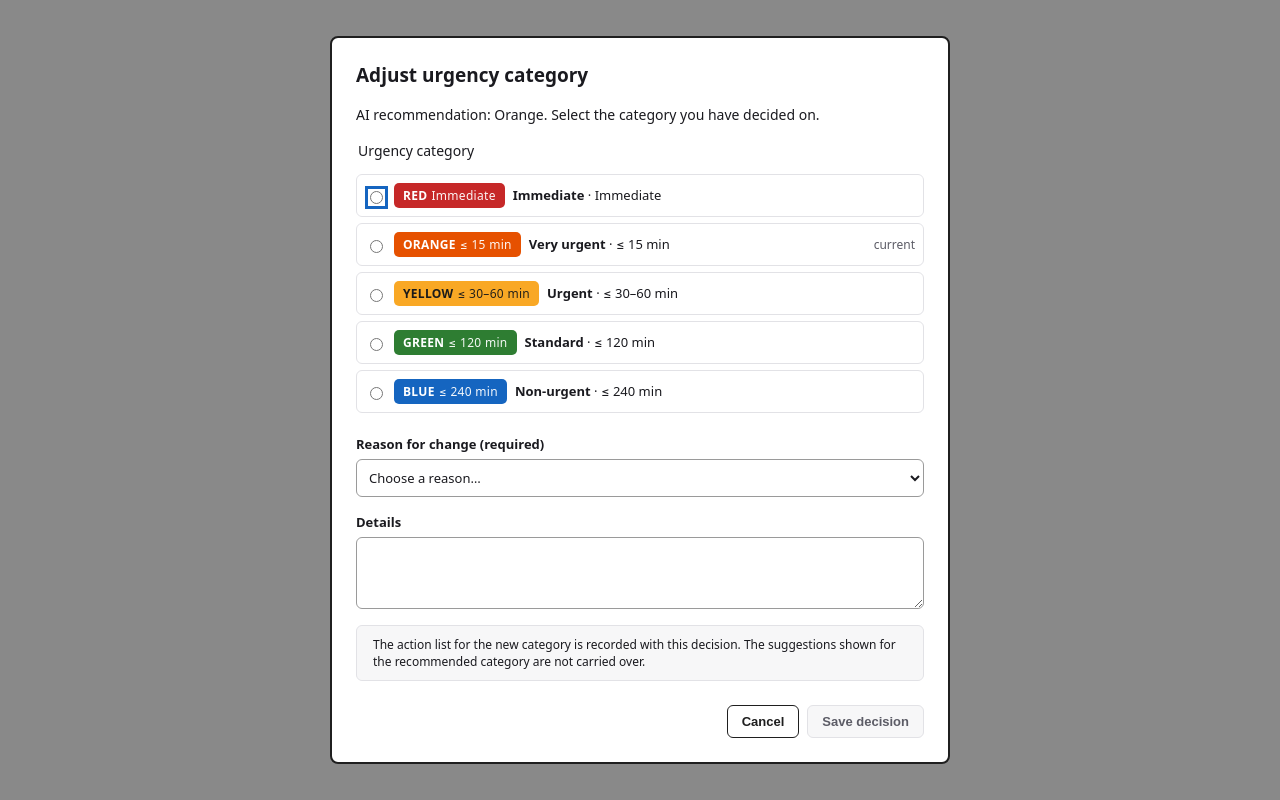
AdjustDialog › names the direction of the change, and which way round it goes
Click the radio button labelled "RED Immediate Immediate · Immediate": (376, 197) x1=370 y1=190 x2=383 y2=204
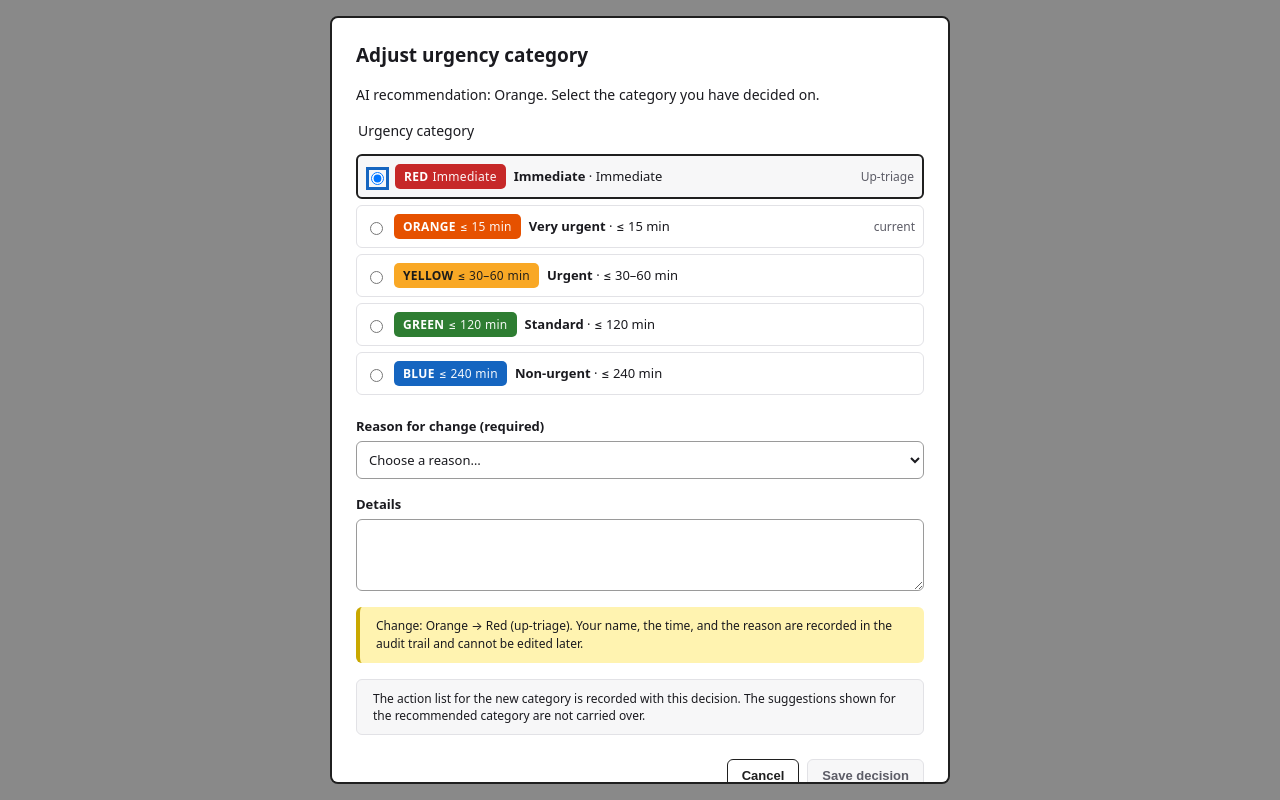
Expected: the text "Change: Orange → Red (up-triage)" is shown, x1=376 y1=617 x2=573 y2=634
Click the radio button labelled "BLUE ≤ 240 min Non-urgent · ≤ 240 min": (376, 375) x1=370 y1=368 x2=383 y2=382
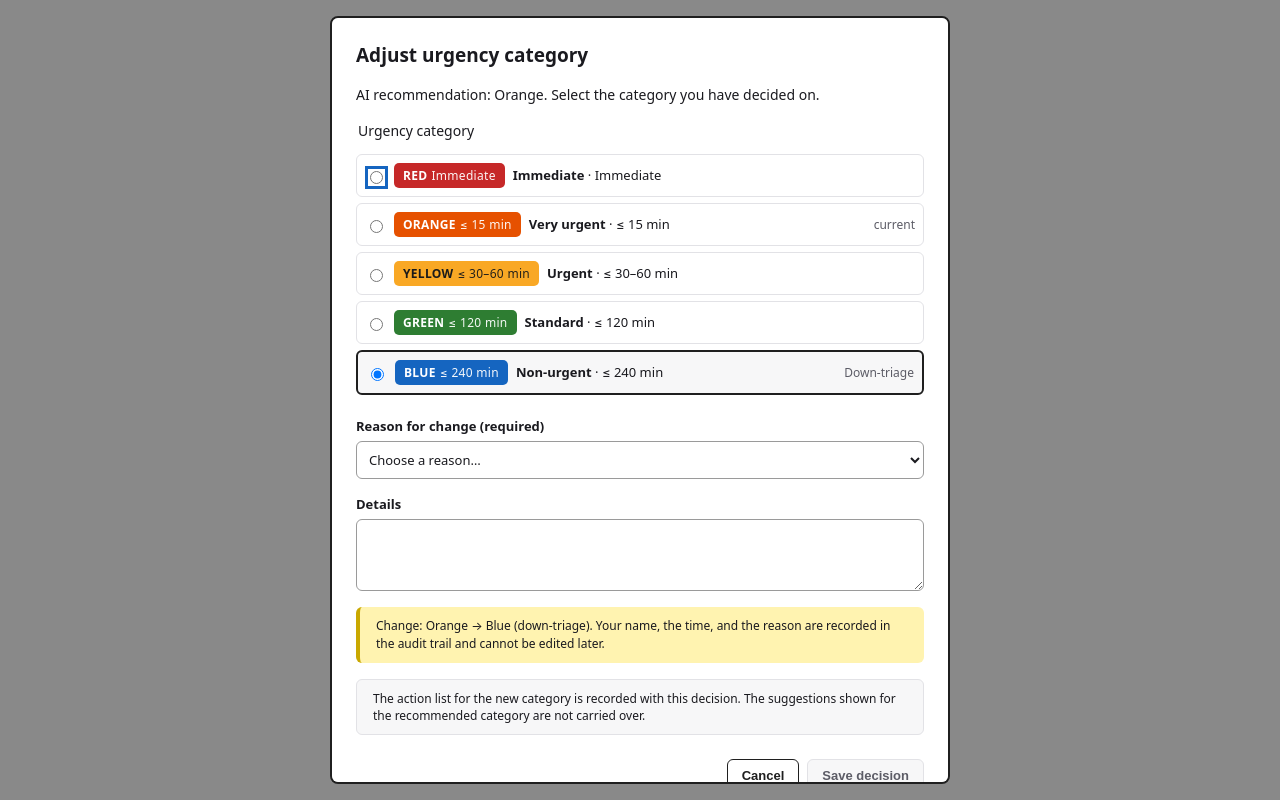
Expected: the text "Change: Orange → Blue (down-triage)" is shown, x1=376 y1=617 x2=593 y2=634
